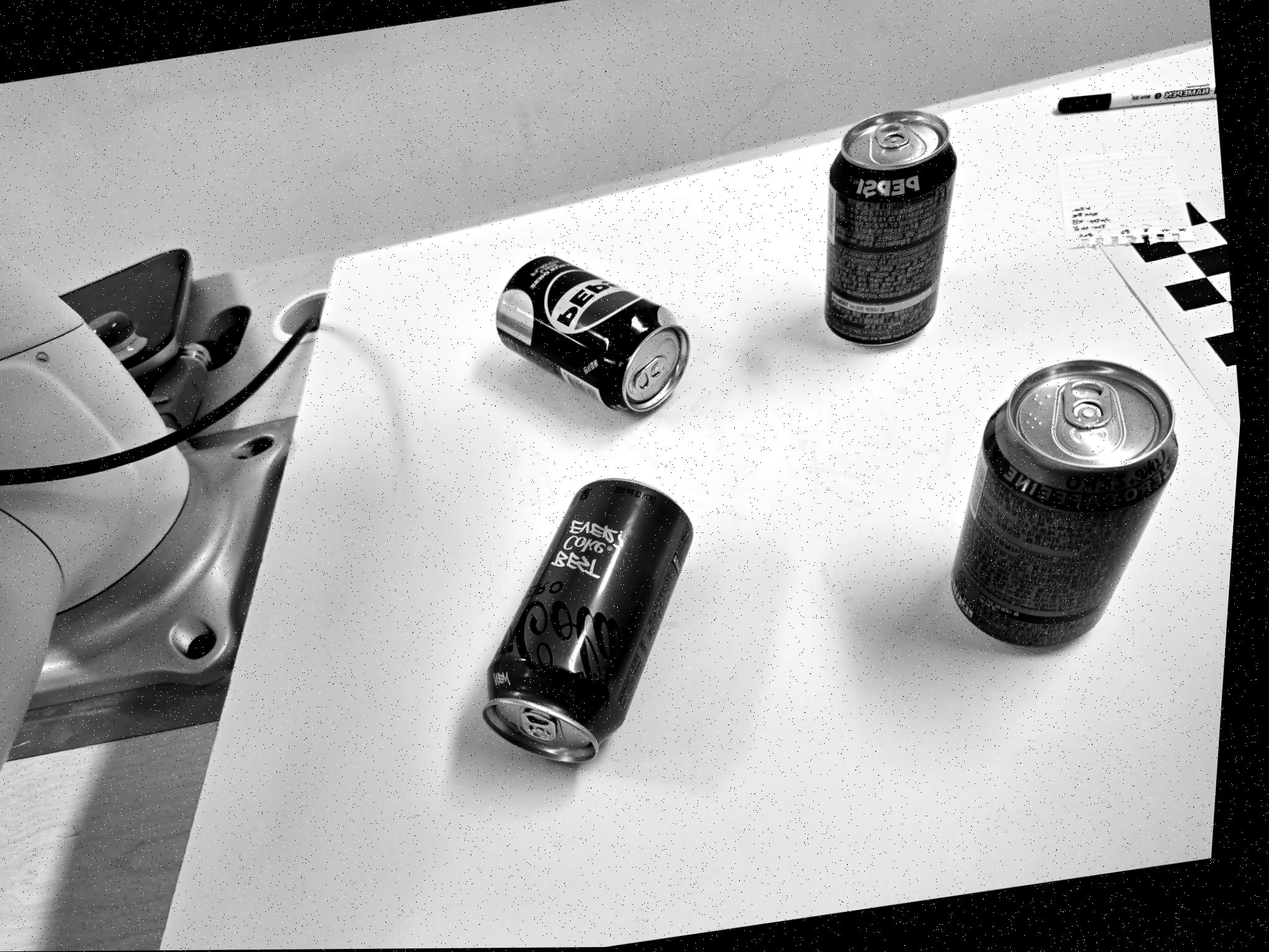can_coke_decaf: (951, 360, 1178, 647)
can_coke_zero: (483, 479, 692, 761)
can_pepsi: (824, 111, 957, 345)
can_pepsi_zero: (496, 256, 690, 412)
